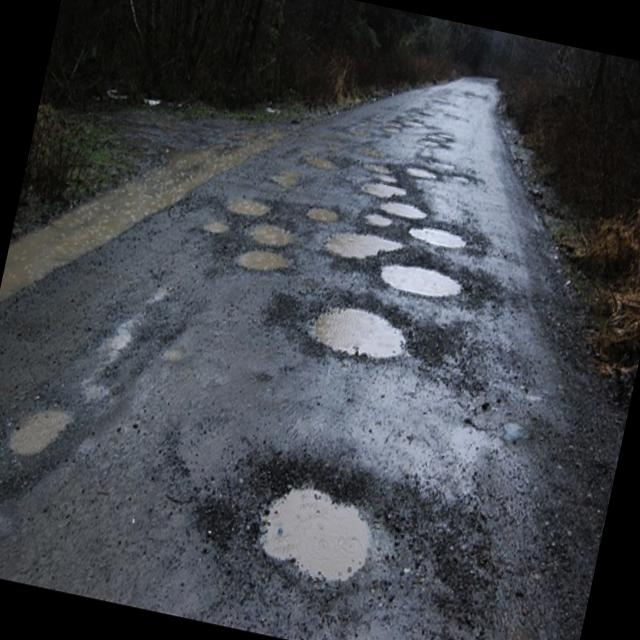Potholes: (216, 434, 438, 640), (290, 279, 452, 399), (0, 368, 106, 498), (364, 156, 452, 244), (371, 253, 476, 313), (316, 216, 408, 284), (404, 208, 484, 266), (290, 188, 354, 248), (232, 232, 301, 282), (247, 209, 305, 259), (226, 188, 266, 218)
